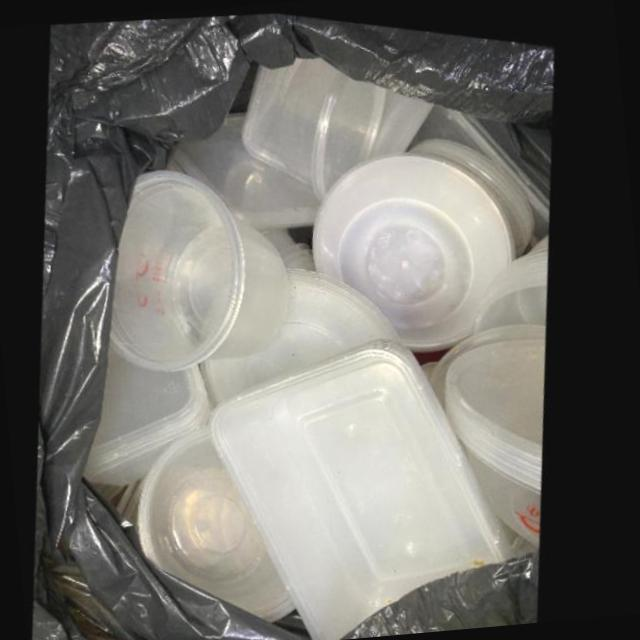hop_nhua: (210, 337, 512, 640), (315, 150, 520, 349), (112, 168, 292, 371), (138, 424, 295, 621), (447, 335, 548, 542), (84, 346, 211, 485), (285, 54, 392, 199)
